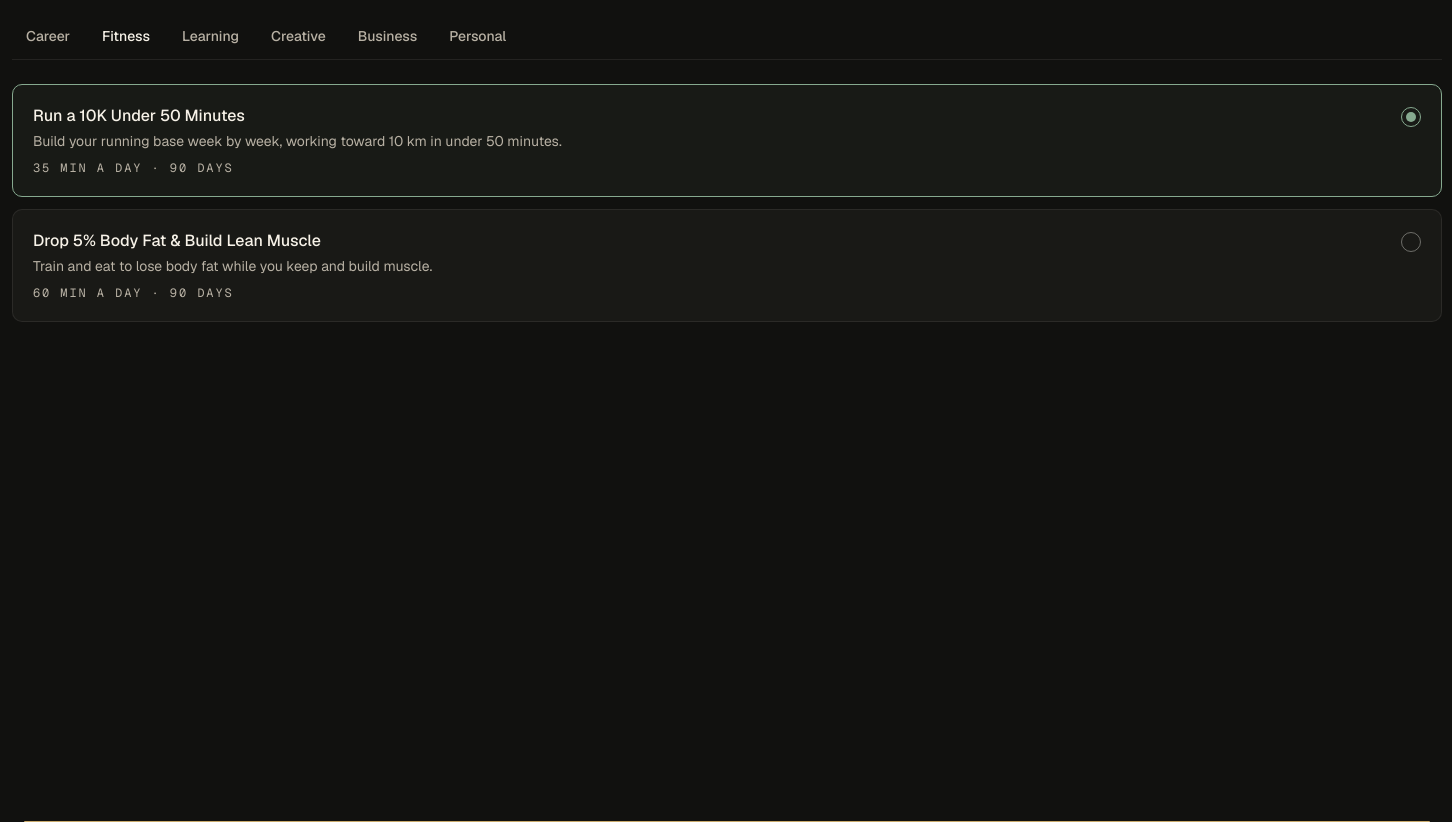
Test: PathwayLibrary (tabs) › switches direction from its tab and auto-selects a lone pathway
The width and height of the screenshot is (1452, 822).
Click the tab "Personal": (478, 36) [435,12,520,60]
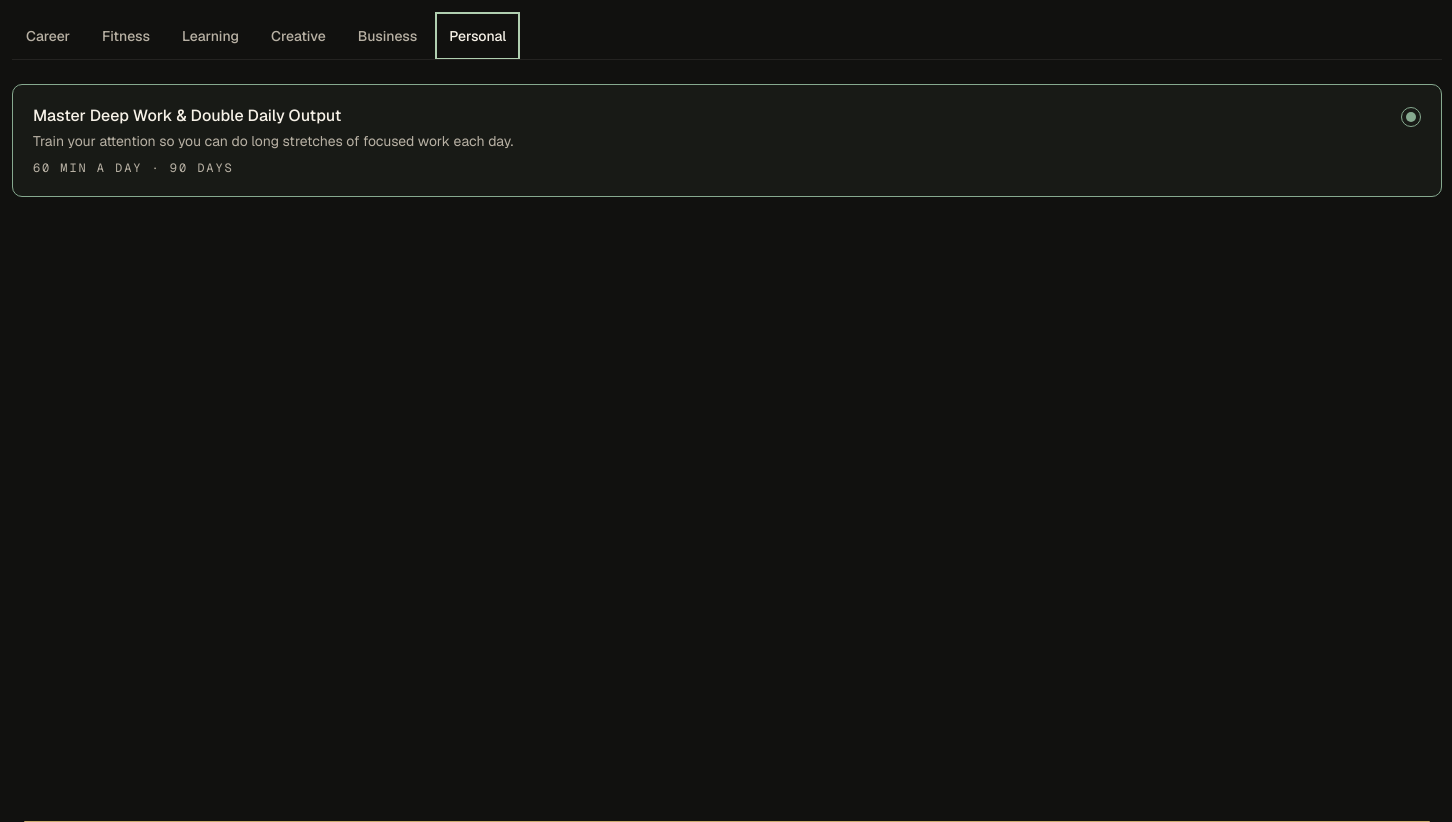
Expected: the radio button labelled "Master Deep Work & Double Daily Output" is checked, [12,84,1442,197]
